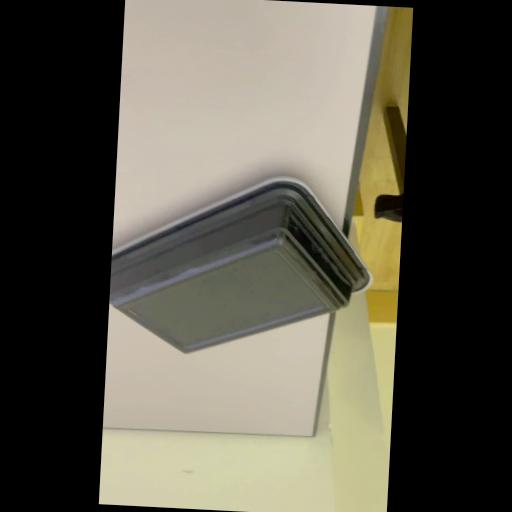rigid_plastic_container: (108, 164, 378, 364)
